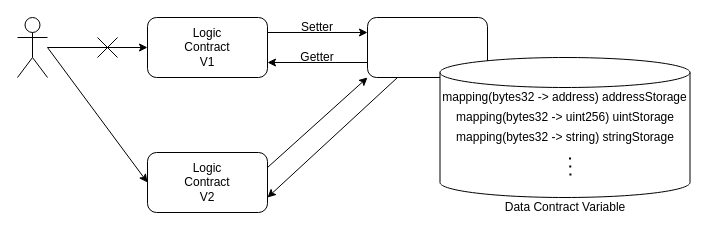
This 710x235 diagram has some shape labels left out. Each missing label, with the centre of its shape:
Data Contract: the point at 427,47
User: the point at 32,47
